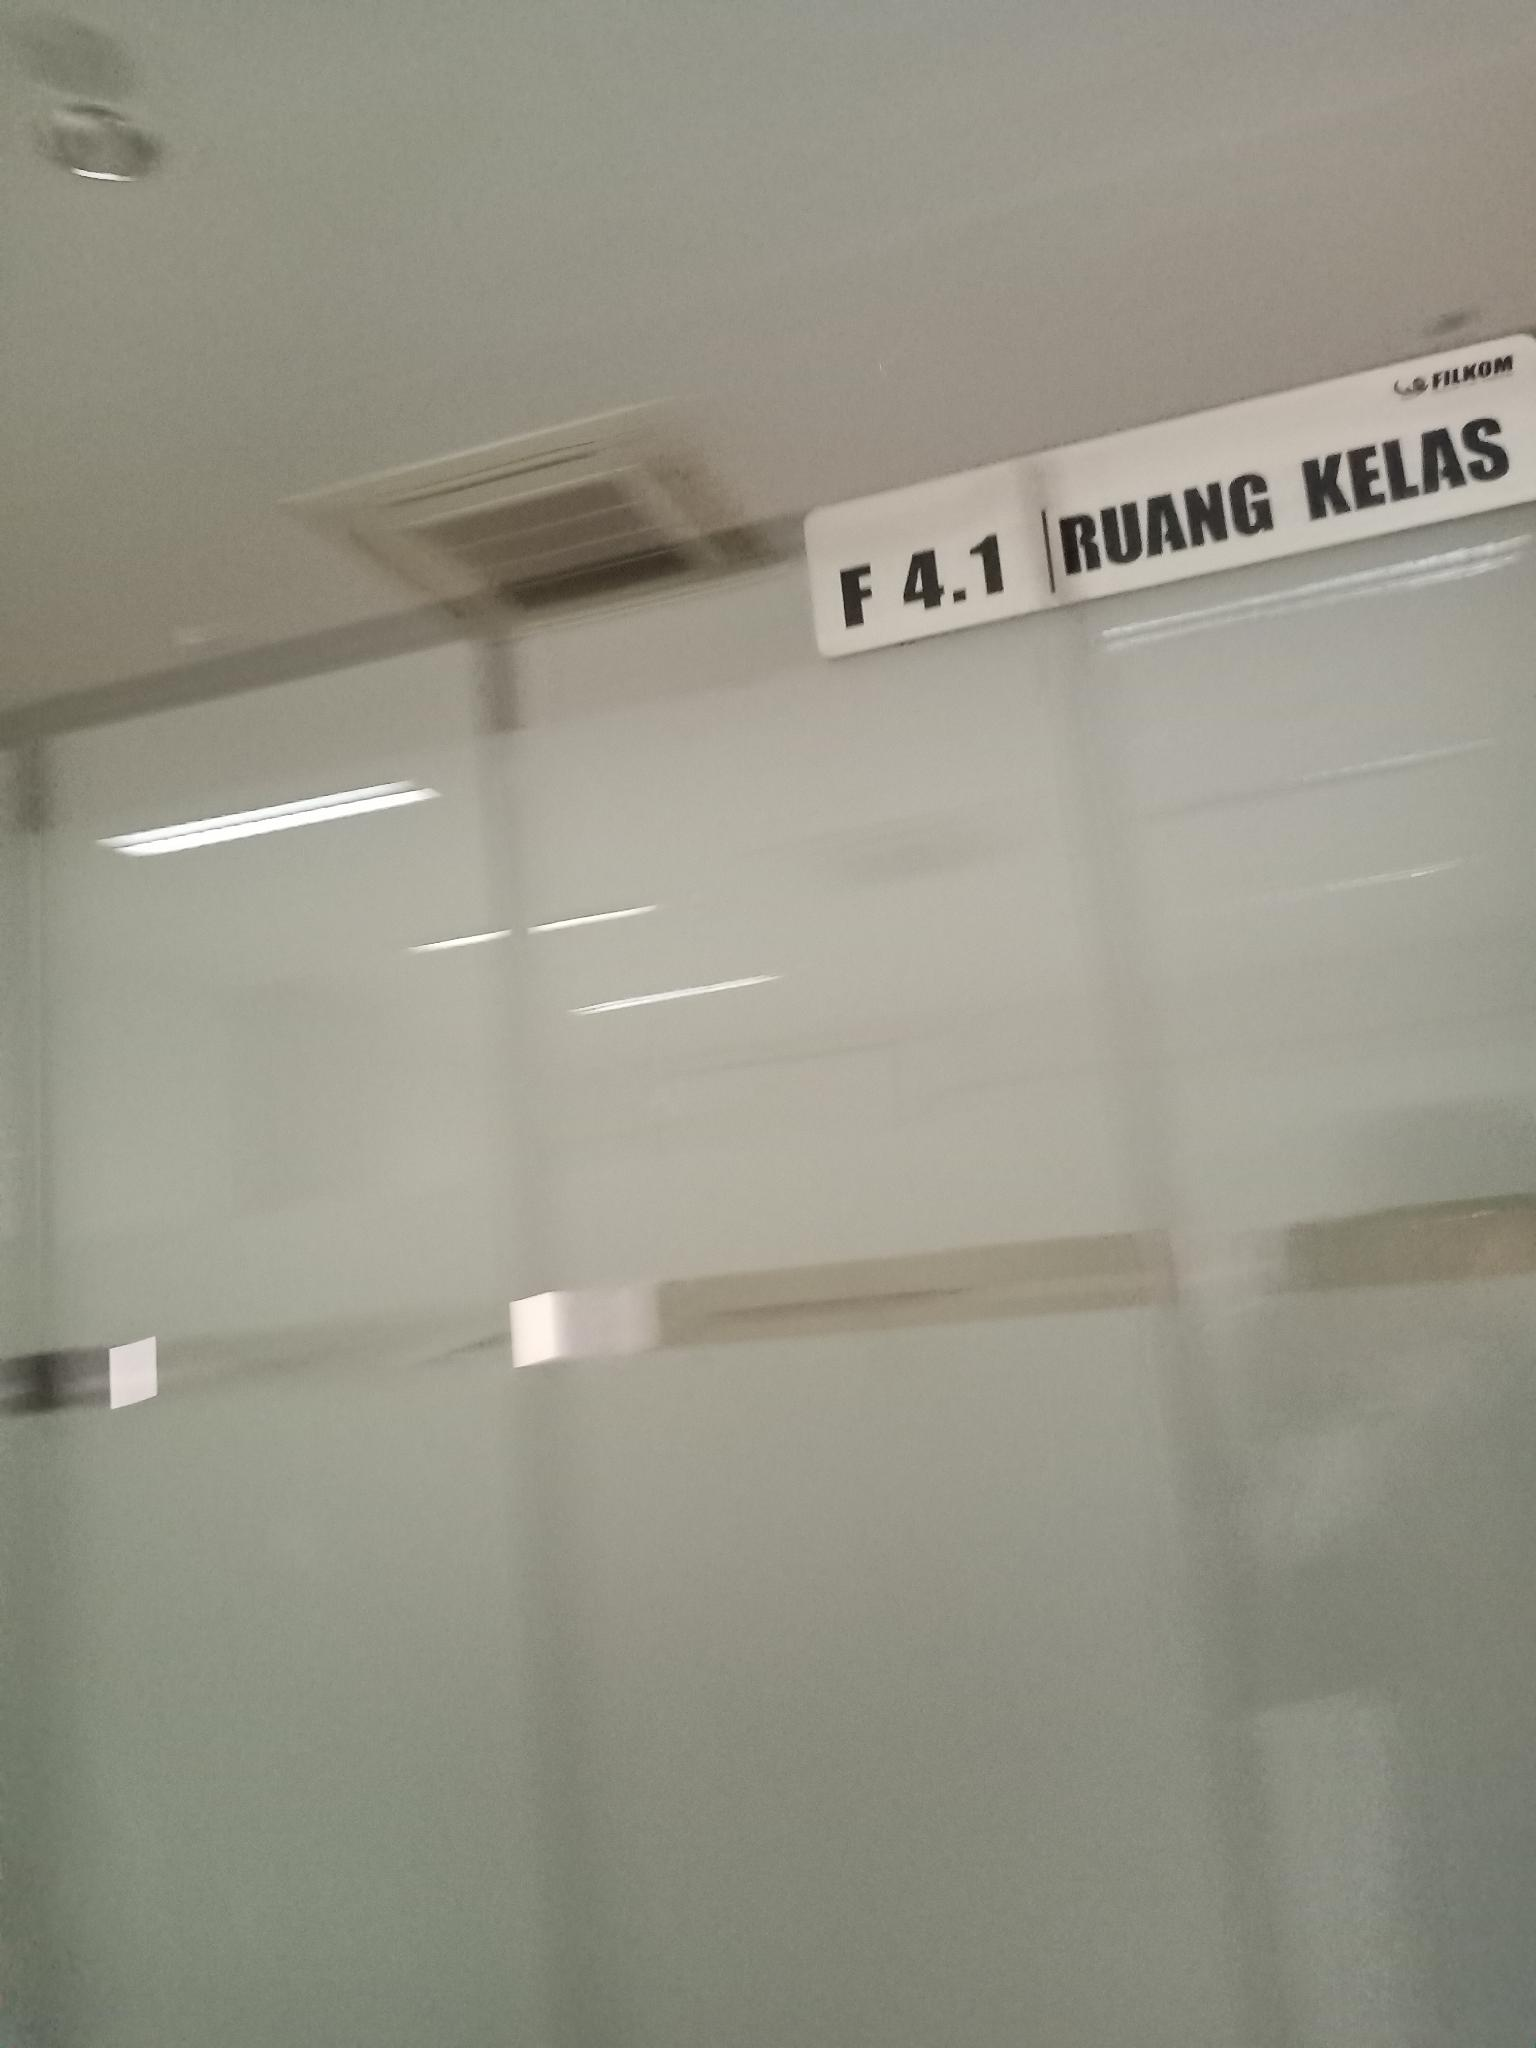plate: (800, 331, 1536, 663)
